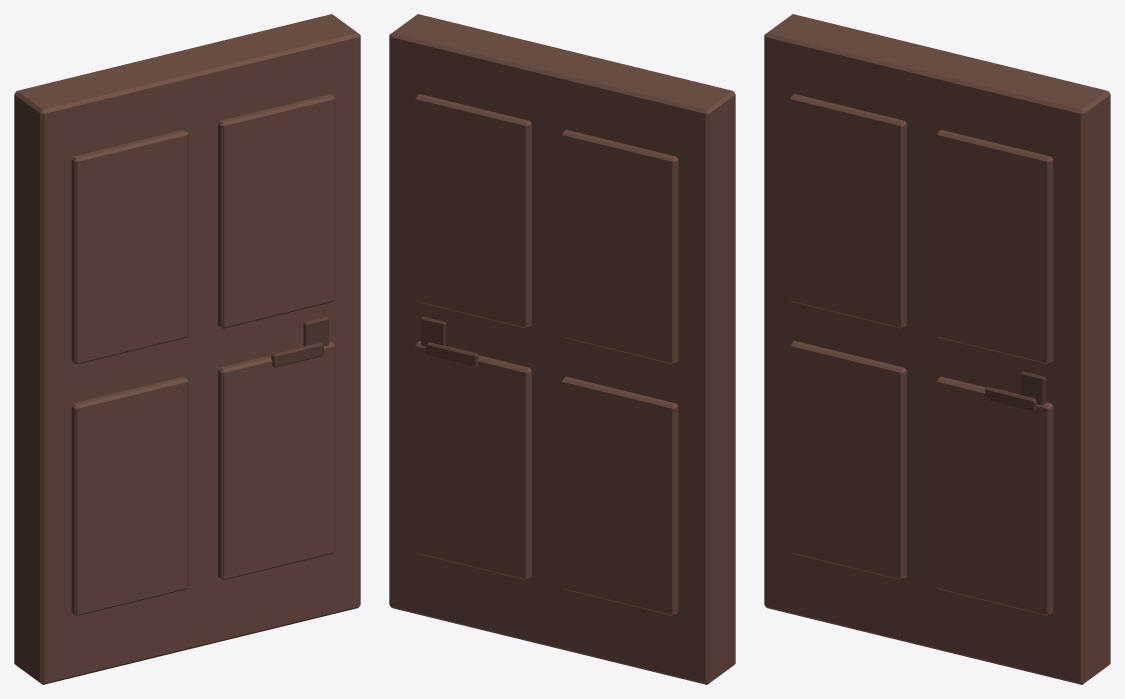
The model's file is door.glb.
The picture shows the model from 3 angles, left to right: view 1: azimuth 30°, elevation 25°; view 2: azimuth 150°, elevation 25°; view 3: azimuth 330°, elevation 25°; orthographic projection.
Visible parts, largest first — view 1: door; view 2: door; view 3: door.
Boxes of the visible parts, <box> form: door: <box>14,14,360,684</box>; door: <box>389,14,735,684</box>; door: <box>764,14,1110,684</box>.
Bounding box in the file's own units: 1.4 × 2.4 × 0.3.
Materials: 1 (1 with a texture image).
